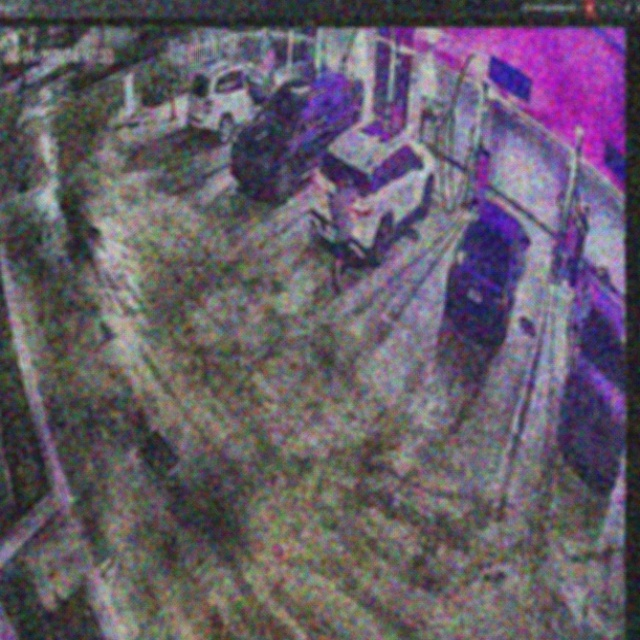Car: (311, 119, 436, 264), (232, 71, 362, 201), (443, 197, 530, 345)
